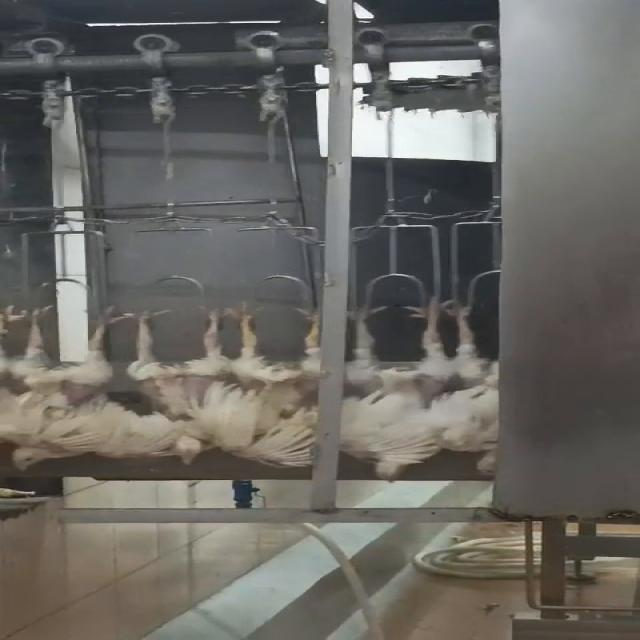chicken: (222, 294, 342, 473), (0, 302, 123, 474), (121, 298, 229, 471), (345, 296, 443, 486), (432, 296, 507, 478)
